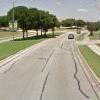Tree: (8, 4, 68, 44)
